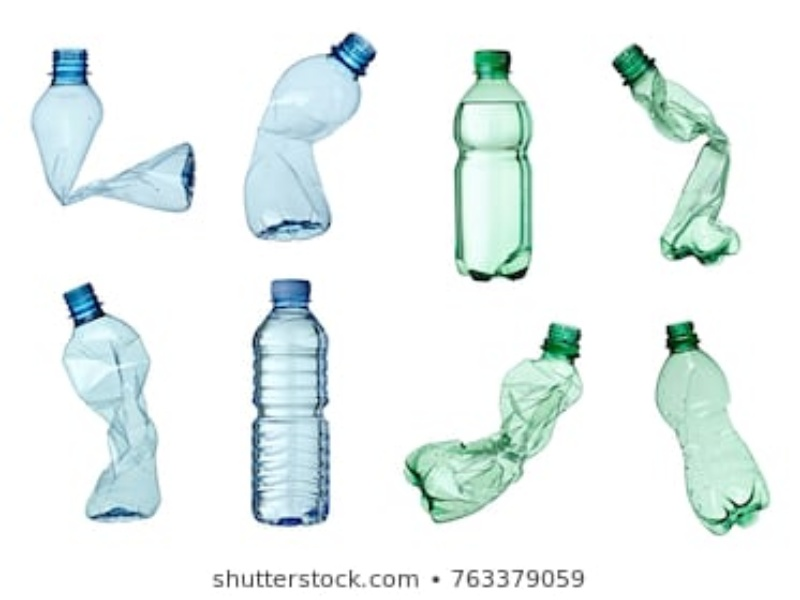plastic-bottle: (394, 318, 585, 531), (232, 27, 391, 246), (604, 40, 749, 266), (47, 279, 173, 527), (26, 39, 200, 216), (648, 314, 773, 543), (240, 274, 350, 533), (438, 40, 546, 287)
